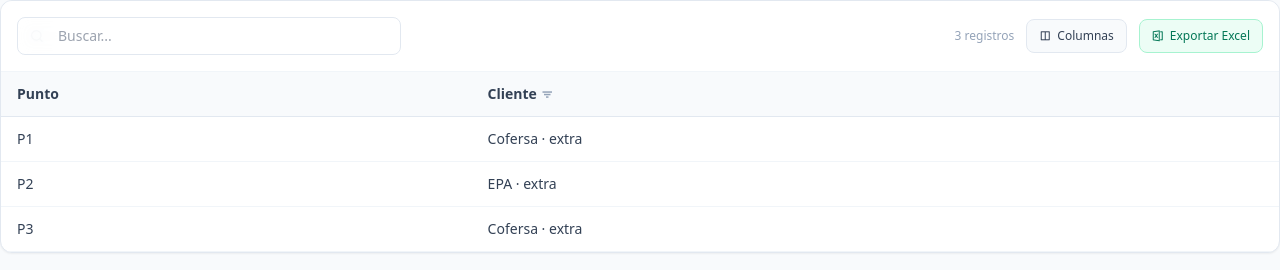
Scenario: DataTable maxVisibleRows (scroll interno) › también sin scroll interno: el filtro y el menú de columnas salen de la tabla (no se recortan)
The width and height of the screenshot is (1280, 270).
What coordinates should you click on to do the following:
click the button with class "ri-filter-3-fill"
I would click on:
 (547, 94)
Its box is [541,84,553,104].
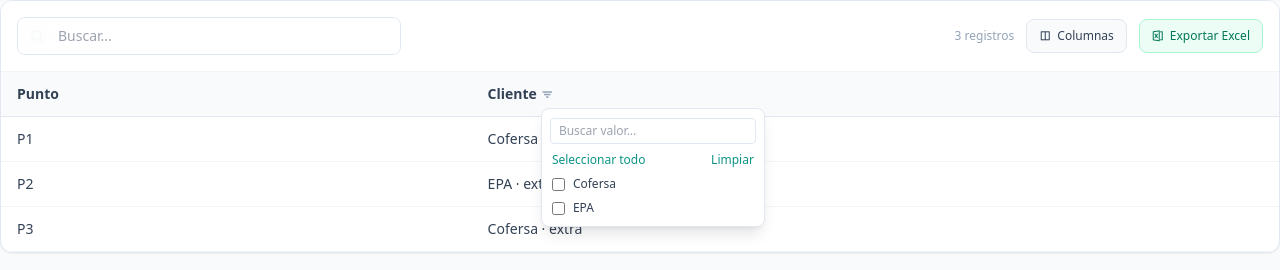
Result: the element with class "z-50" is shown at [541,108,765,227]
What coordinates should you click on to do the following:
click the button with class "ri-layout-column-line"
I would click on:
 (1077, 36)
Its box is [1026,19,1127,53].
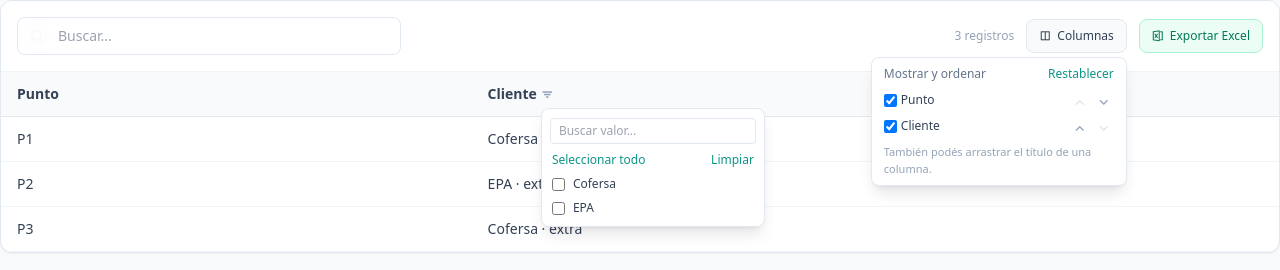
Result: the number of elements with class "z-50" is 2 at [541,108,765,227]; [871,57,1127,186]
